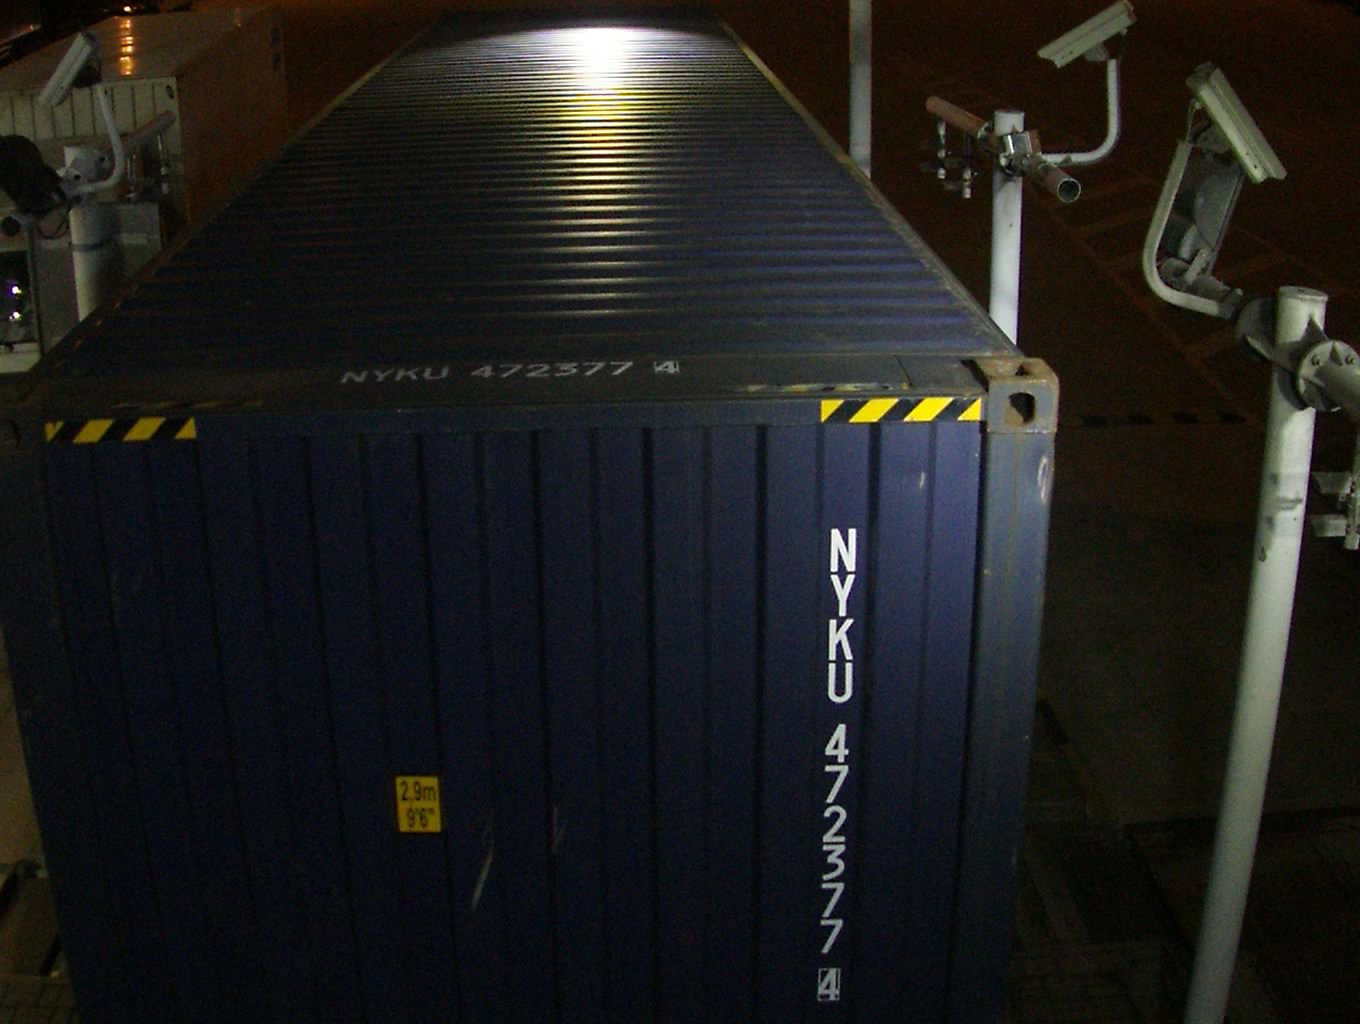words: (812, 517, 858, 1008)
